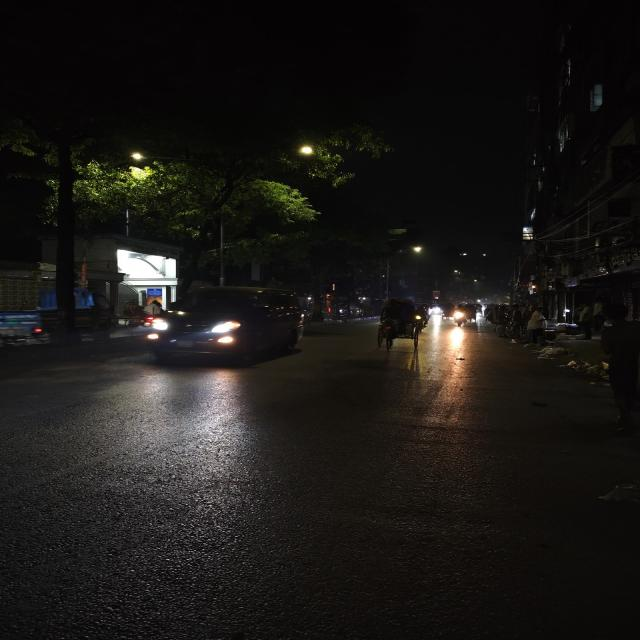car: (142, 283, 315, 369)
motorcycle: (452, 301, 468, 327)
pedestrian: (524, 306, 549, 348)
rickshaw: (374, 296, 426, 354)
